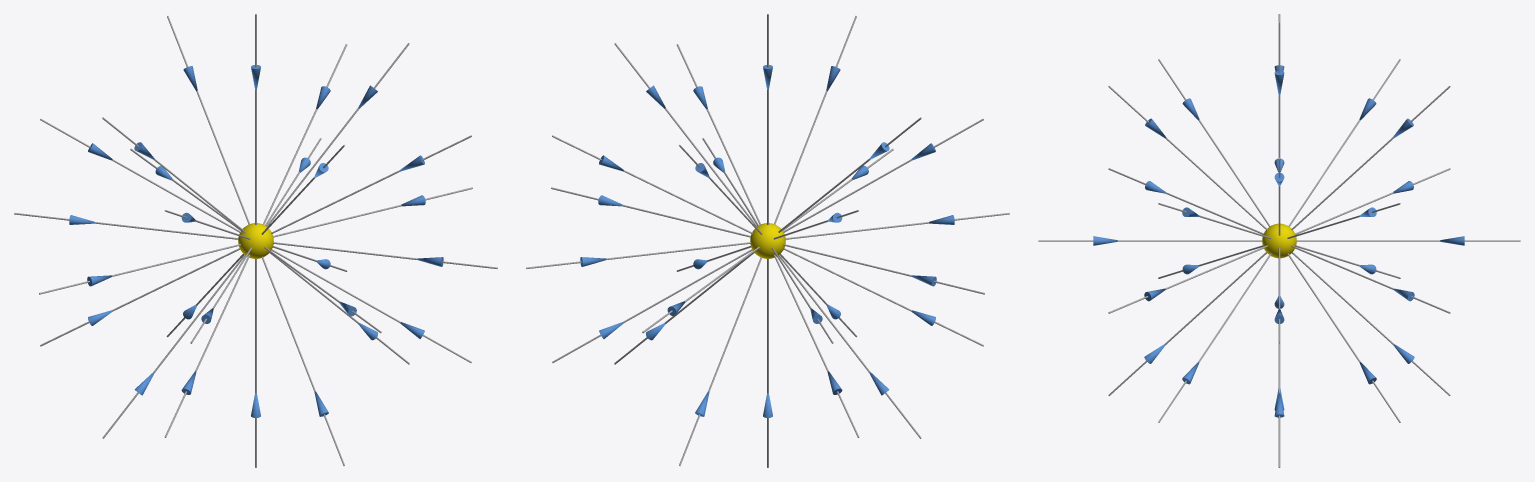
The model's file is fudianhe.fbx.
3 renders of one model, left to right at view 1: azimuth 30°, elevation 25°; view 2: azimuth 150°, elevation 25°; view 3: azimuth 270°, elevation 25°, orthographic. The views are drawn at different scales.
Parts seen in each view (by area): view 1: dianhe:pSphere2; view 2: dianhe:pSphere2; view 3: dianhe:pSphere2.
Boxes of the visible parts, <box> form: dianhe:pSphere2: <box>14,14,497,467</box>; dianhe:pSphere2: <box>526,14,1009,467</box>; dianhe:pSphere2: <box>1038,14,1520,467</box>.
Bounding box in the file's own units: 27.81 × 27.81 × 27.81.
